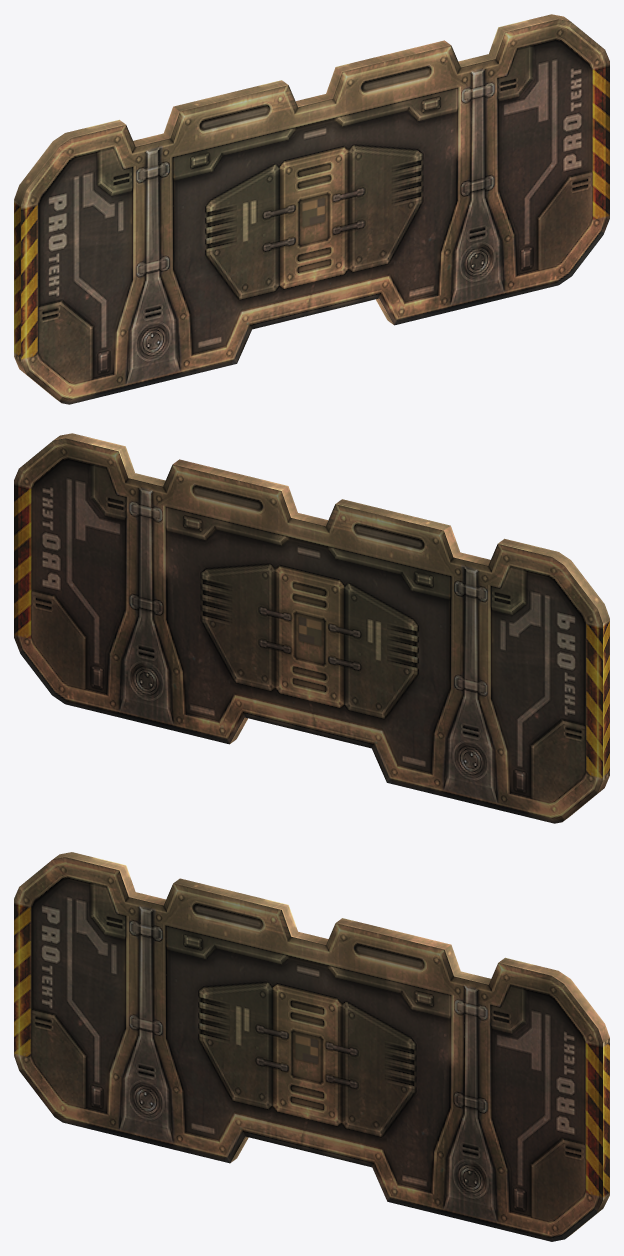
File: mpr_cover_rail.FBX
The picture shows the model from 3 angles, top to bottom: view 1: azimuth 30°, elevation 25°; view 2: azimuth 150°, elevation 25°; view 3: azimuth 330°, elevation 25°; orthographic projection.
Parts seen in each view (by area): view 1: mpr_cover_rail; view 2: mpr_cover_rail; view 3: mpr_cover_rail.
Boxes of the visible parts, box(x1,y1,x2,y2) form: mpr_cover_rail: box(14, 14, 609, 404); mpr_cover_rail: box(14, 433, 609, 823); mpr_cover_rail: box(14, 852, 609, 1241).
Size of the model in its own units: 276 by 119 by 5.6.
Materials: 1 (1 with a texture image).
